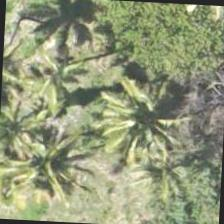Kelapa_Sawit: (86, 70, 182, 164), (2, 114, 97, 208)
